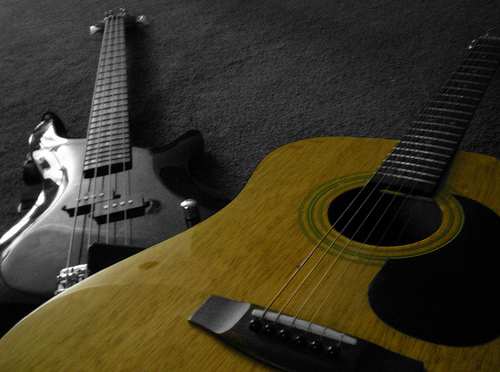guitar: (9, 25, 500, 372)
